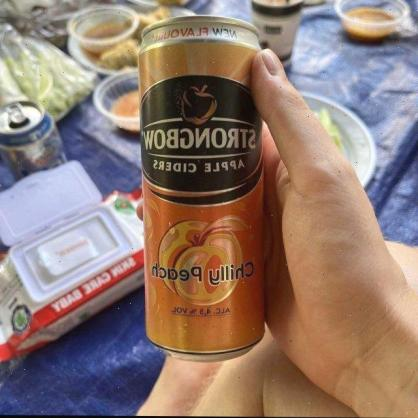can: (140, 13, 266, 361)
